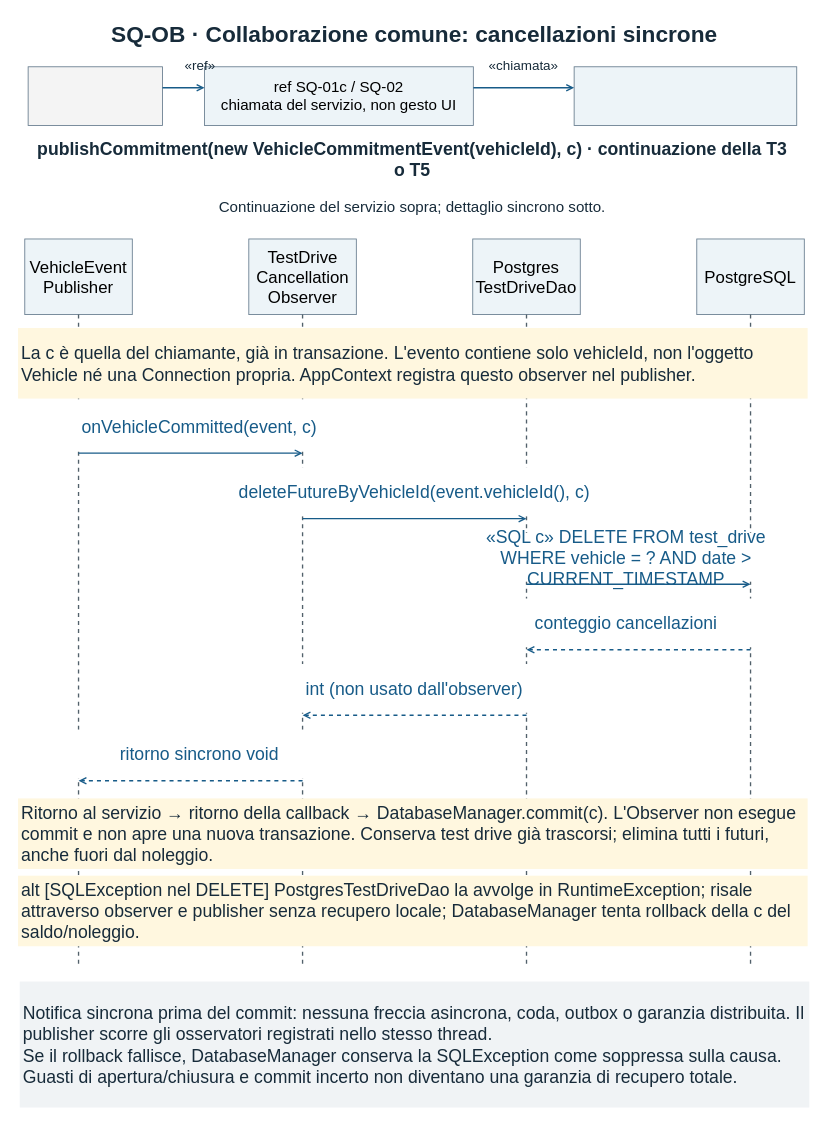
Image size: 825x1121. Some labels were removed from this diagram. The centre of each missing label's shape, as x and y in pixels:
"Saldo / noleggio" goes at [95,96].
"VehicleEventPublisher" goes at [685,96].
